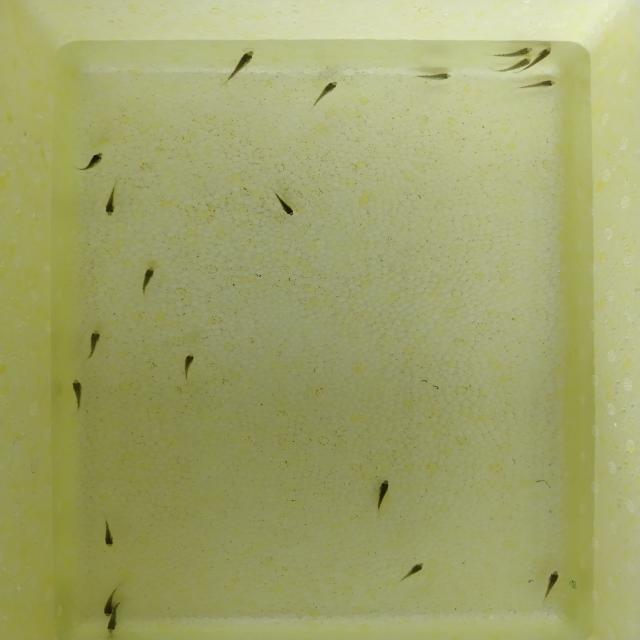fingerling: (218, 48, 258, 88), (304, 80, 340, 115), (265, 185, 299, 219), (369, 477, 396, 517), (72, 149, 108, 174), (537, 568, 562, 604), (82, 326, 104, 364), (394, 561, 428, 585), (97, 513, 119, 550), (510, 78, 558, 94), (67, 376, 87, 414), (136, 263, 158, 297), (102, 179, 120, 219), (177, 351, 199, 383), (486, 58, 534, 70), (411, 70, 455, 83), (491, 46, 535, 56), (102, 586, 116, 616), (103, 617, 122, 635), (538, 46, 554, 62)
